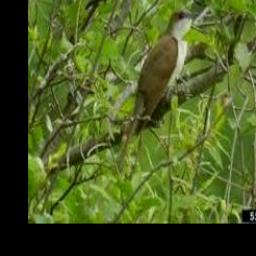Cuckoo: (119, 9, 195, 171)
